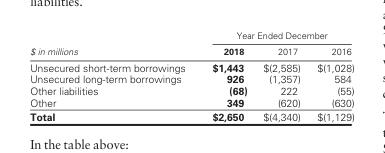table: (29, 29, 353, 122)
table column: (29, 29, 198, 122), (198, 29, 254, 122), (254, 29, 308, 122), (308, 29, 353, 122)
table column header: (29, 29, 353, 58)
table row: (29, 42, 353, 58), (29, 58, 353, 72), (29, 108, 353, 122), (29, 29, 353, 42), (29, 72, 353, 84), (29, 84, 353, 96), (29, 96, 353, 108)
table spanning cell: (29, 29, 198, 58), (198, 29, 353, 42)
